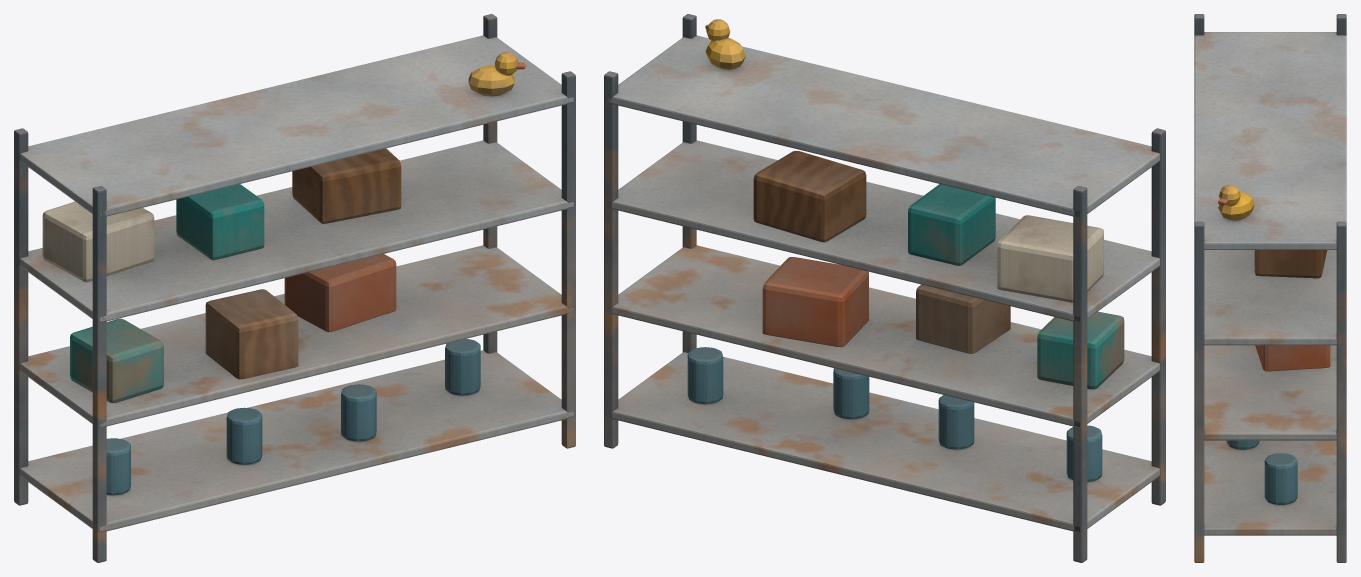
File: storage_shelf.glb
3 views of the same model, side by side, from view 1: azimuth 30°, elevation 25°; view 2: azimuth 150°, elevation 25°; view 3: azimuth 270°, elevation 25° (orthographic). The views are drawn at different scales.
Parts seen in each view (by area): view 1: Shelf_Mesh, Duck_Mesh; view 2: Shelf_Mesh, Duck_Mesh; view 3: Shelf_Mesh, Duck_Mesh.
Boxes of the visible parts, bbox=[...] form: Shelf_Mesh: bbox=[14, 14, 575, 562]; Duck_Mesh: bbox=[468, 52, 525, 96]; Shelf_Mesh: bbox=[604, 14, 1165, 562]; Duck_Mesh: bbox=[705, 19, 745, 69]; Shelf_Mesh: bbox=[1194, 14, 1346, 562]; Duck_Mesh: bbox=[1218, 184, 1254, 220].
Bounding box in the file's own units: 2.96 × 2.31 × 0.9.
Materials: 2 (2 with a texture image).
